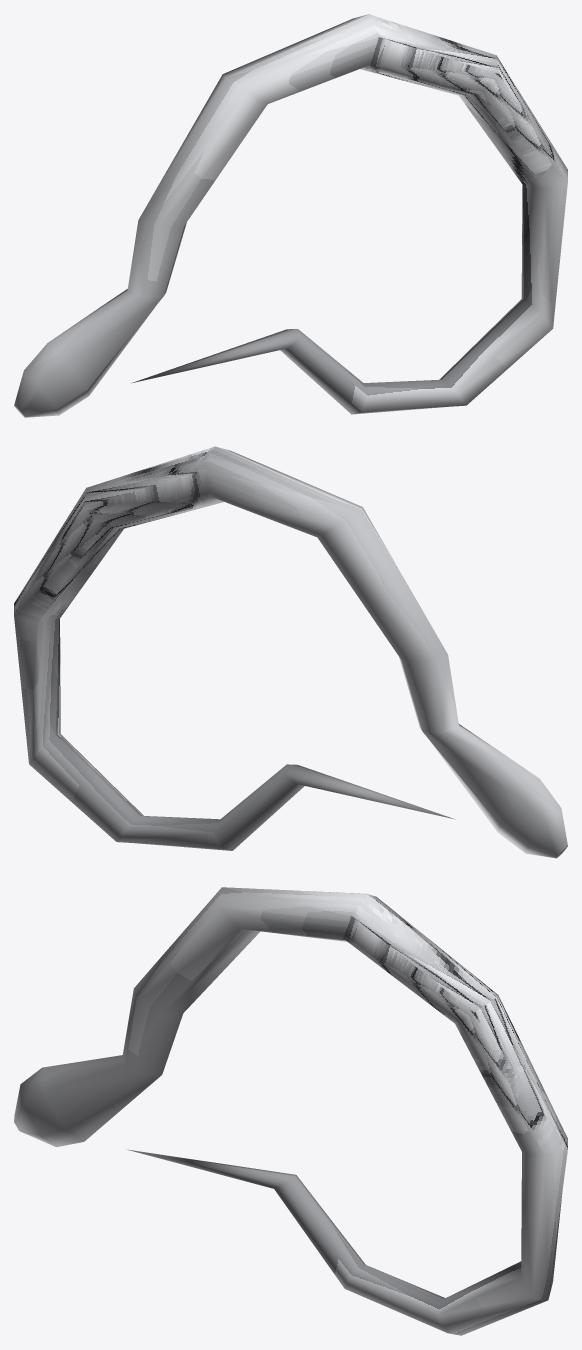
The model's file is snake_000003.obj.
3 renders of one model, top to bottom at view 1: azimuth 30°, elevation 25°; view 2: azimuth 150°, elevation 25°; view 3: azimuth 330°, elevation 25°, orthographic.
Visible parts, largest first — view 1: Cylinder; view 2: Cylinder; view 3: Cylinder.
Boxes of the visible parts, x1,y1,x2,y2 form: Cylinder: (14,14,567,417); Cylinder: (14,446,567,858); Cylinder: (14,887,567,1335).
Bounding box in the file's own units: 4.62 × 3.32 × 0.3671.
